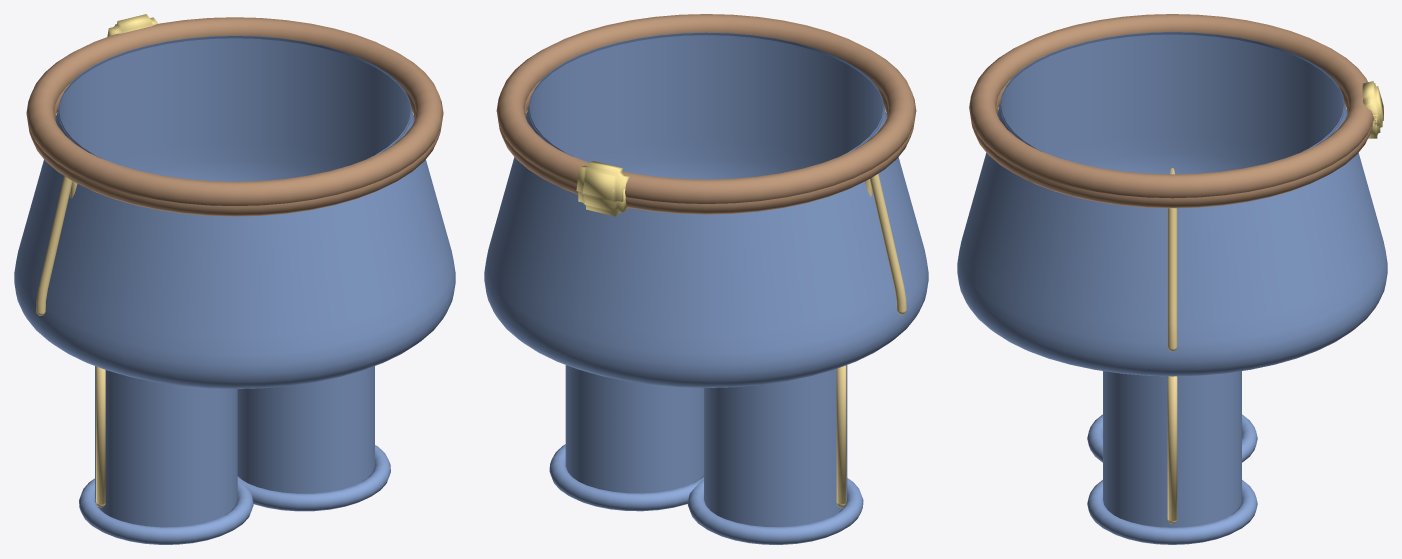
File: jeans.glb
3 renders of one model, left to right at view 1: azimuth 30°, elevation 25°; view 2: azimuth 150°, elevation 25°; view 3: azimuth 270°, elevation 25°, orthographic. The views are drawn at different scales.
Parts seen in each view (by area): view 1: BodyGirl, BodyBoy, LegL, LegR; view 2: BodyGirl, BodyBoy, LegL, LegR; view 3: BodyGirl, BodyBoy, LegR, LegL.
Boxes of the visible parts, bbox=[...] form: BodyGirl: bbox=[14, 14, 455, 388]; BodyBoy: bbox=[28, 35, 441, 216]; LegL: bbox=[79, 366, 253, 544]; LegR: bbox=[237, 366, 390, 511]; BodyGirl: bbox=[484, 14, 928, 387]; BodyBoy: bbox=[498, 32, 914, 216]; LegL: bbox=[688, 365, 863, 544]; LegR: bbox=[549, 365, 703, 511]; BodyGirl: bbox=[957, 14, 1387, 376]; BodyBoy: bbox=[971, 32, 1380, 208]; LegR: bbox=[1087, 371, 1257, 544]; LegL: bbox=[1087, 414, 1257, 462].
Size of the model in its own units: 0.4613 by 0.4458 by 0.4451.
